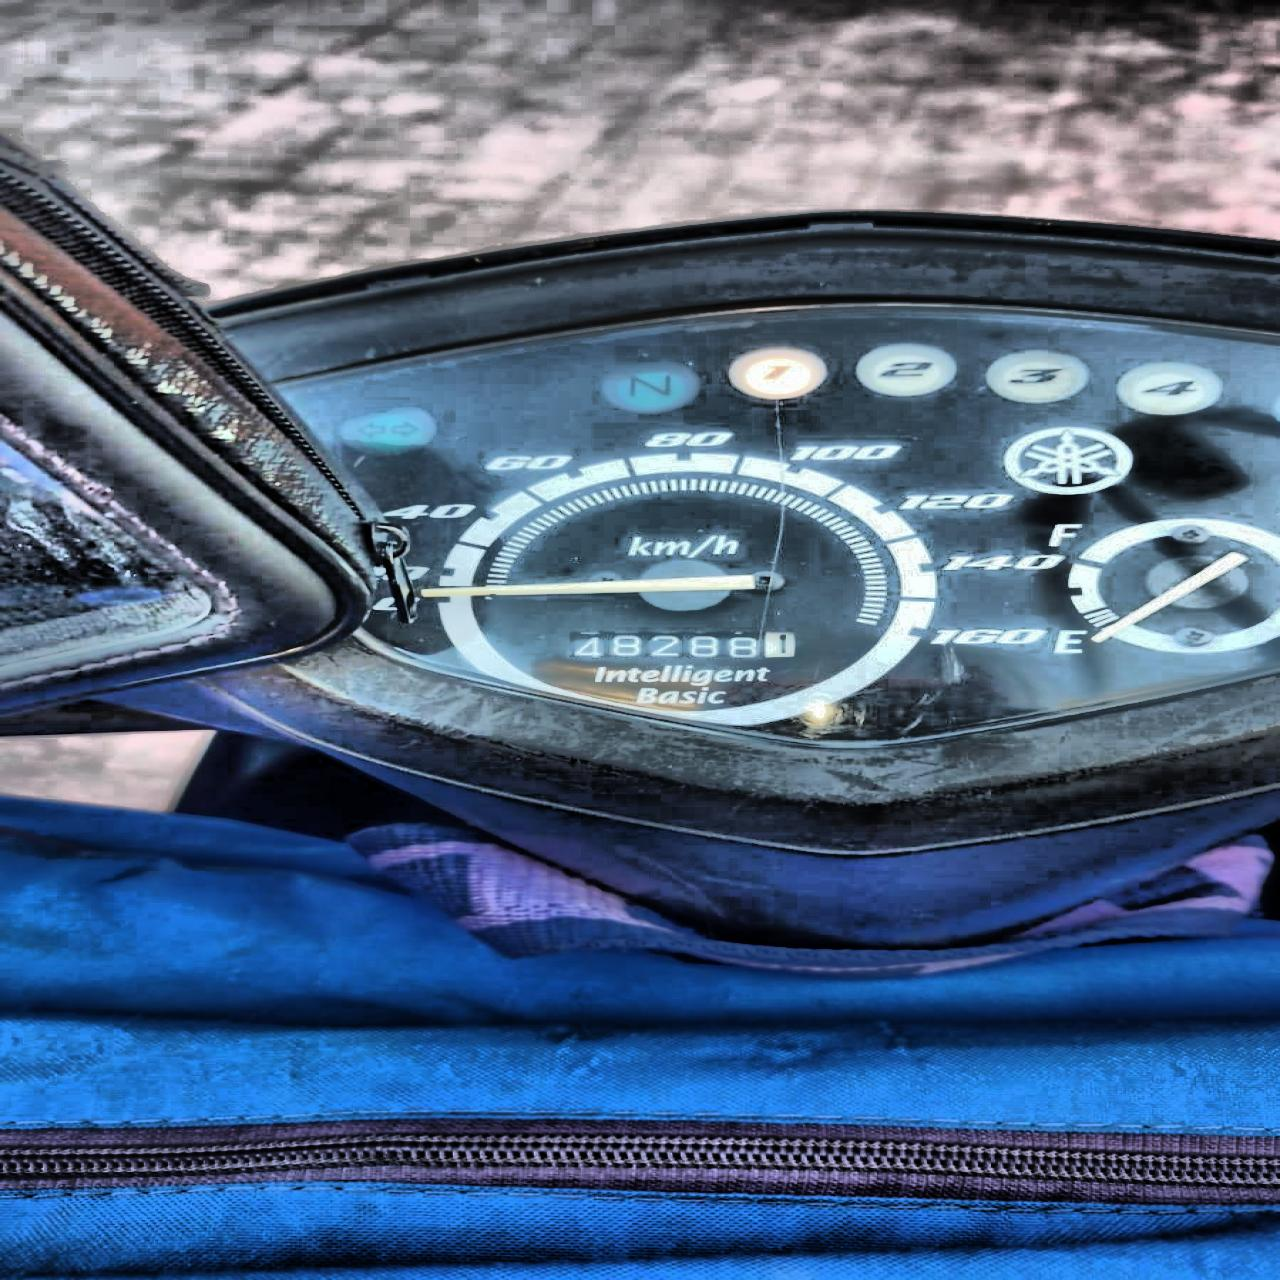1: (777, 633, 785, 653)
2: (648, 635, 679, 656)
4: (572, 636, 601, 658)
8: (688, 635, 717, 658), (611, 634, 641, 655), (728, 636, 756, 658)
odometer: (567, 629, 796, 659)
